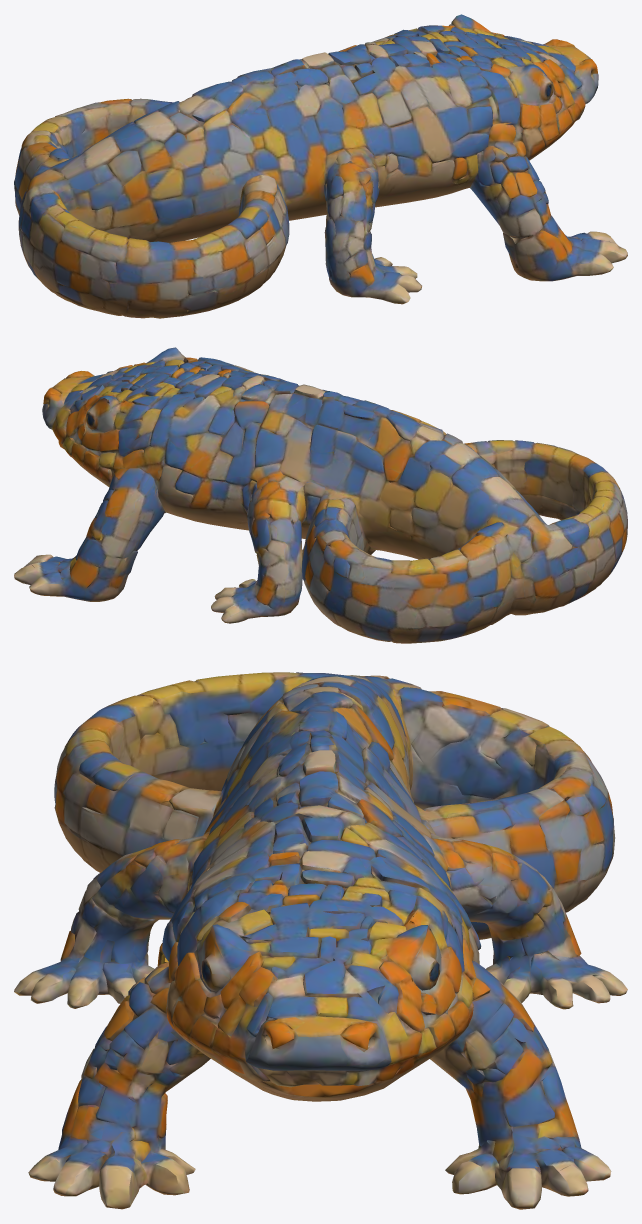
File: mosaicSalamander.glb
3 views of the same model, one above another, from view 1: azimuth 30°, elevation 25°; view 2: azimuth 150°, elevation 25°; view 3: azimuth 270°, elevation 25° (orthographic). The views are drawn at different scales.
Parts seen in each view (by area): view 1: geometry_0; view 2: geometry_0; view 3: geometry_0.
Boxes of the visible parts, <box> form: geometry_0: <box>14,14,627,318</box>; geometry_0: <box>14,347,627,643</box>; geometry_0: <box>14,672,627,1209</box>.
Size of the model in its own units: 0.999 by 0.3466 by 0.6389.
Materials: 1 (1 with a texture image).
